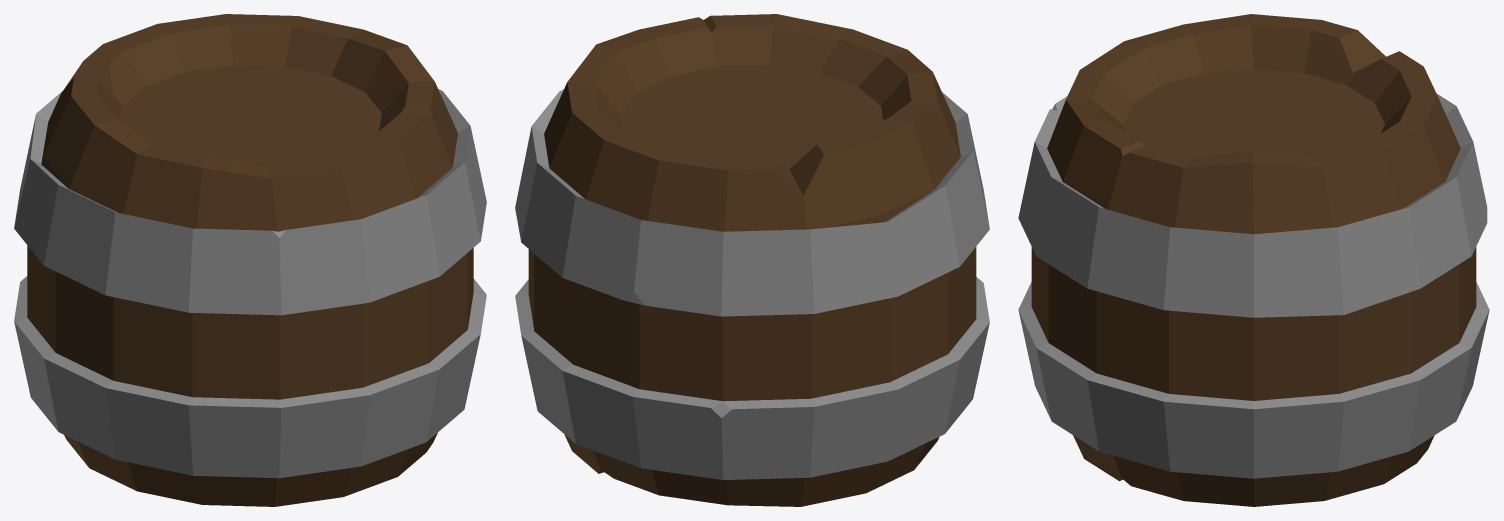
The model's file is Barrel.glb.
3 views of the same model, side by side, from view 1: azimuth 30°, elevation 25°; view 2: azimuth 150°, elevation 25°; view 3: azimuth 270°, elevation 25° (orthographic).
Visible parts, largest first — view 1: Barrel.001, metalStraps.002; view 2: Barrel.001, metalStraps.002; view 3: Barrel.001, metalStraps.002.
Boxes of the visible parts, left/top/right/bottom form: Barrel.001: left=27, top=14, right=473, bottom=506; metalStraps.002: left=14, top=89, right=486, bottom=478; Barrel.001: left=528, top=14, right=976, bottom=506; metalStraps.002: left=515, top=89, right=989, bottom=479; Barrel.001: left=1031, top=14, right=1476, bottom=506; metalStraps.002: left=1018, top=94, right=1489, bottom=478.
Bounding box in the file's own units: 2.56 × 2.05 × 2.56.
